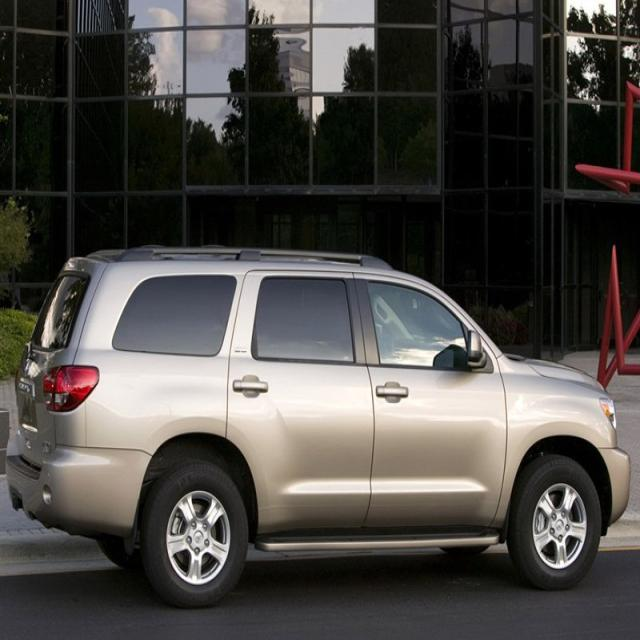back_right_side_light: (44, 360, 102, 413)
door: (230, 273, 360, 551)
front_right_side_door: (350, 273, 508, 536)
front_right_side_light: (596, 394, 622, 428)
front_right_side_mirror: (465, 323, 491, 377)
wheel: (140, 456, 254, 611), (513, 450, 606, 588)
